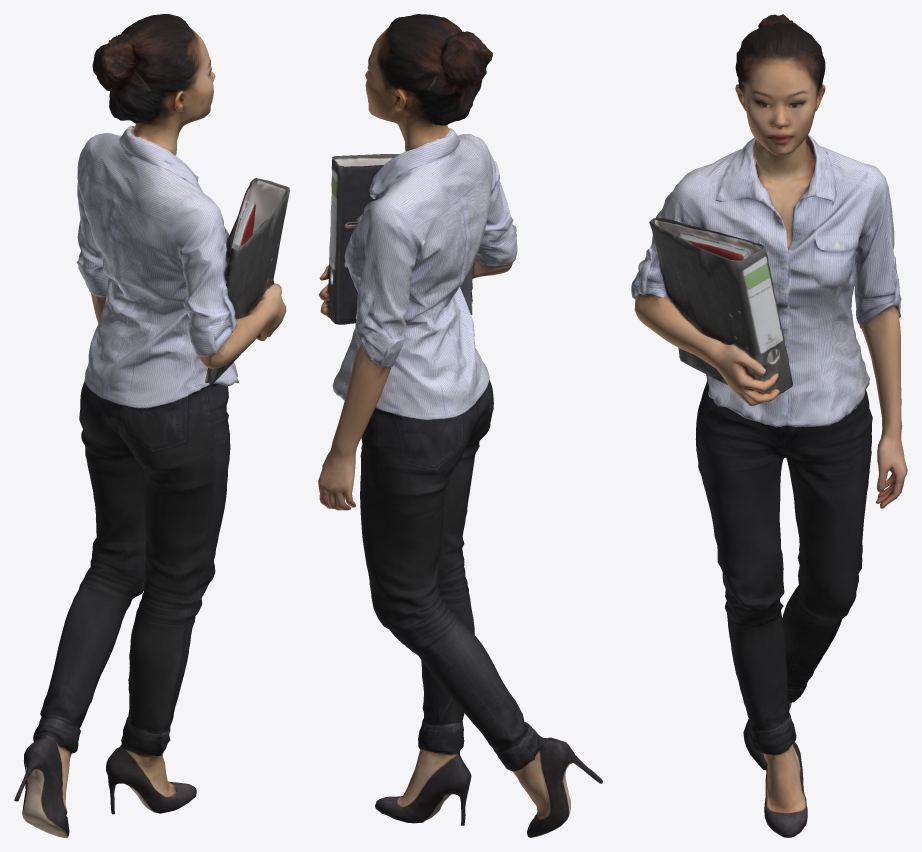
The model's file is RP_Wom_Mei_0314_30k.fbx.
3 views of the same model, side by side, from view 1: azimuth 30°, elevation 25°; view 2: azimuth 150°, elevation 25°; view 3: azimuth 270°, elevation 25° (orthographic).
Visible parts, largest first — view 1: RP_Wom_Mei_0314_30k; view 2: RP_Wom_Mei_0314_30k; view 3: RP_Wom_Mei_0314_30k.
Part boxes in pixels (x1=…): RP_Wom_Mei_0314_30k: x1=14, y1=14, x2=289, y2=837; RP_Wom_Mei_0314_30k: x1=318, y1=14, x2=602, y2=837; RP_Wom_Mei_0314_30k: x1=631, y1=14, x2=907, y2=837.
Bounding box in the file's own units: 61.14 × 170 × 53.74.
